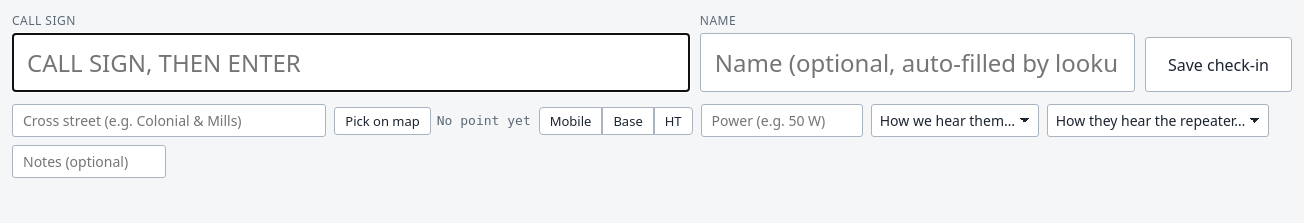
it: CheckinEntryForm in a range check › refuses an incomplete check-in, naming what's missing and keeping what was typed (RANGE-011)
Type "KD4ABC" into the field labelled "Call sign" at {"x": 351, "y": 62}, box [12,33,690,92]
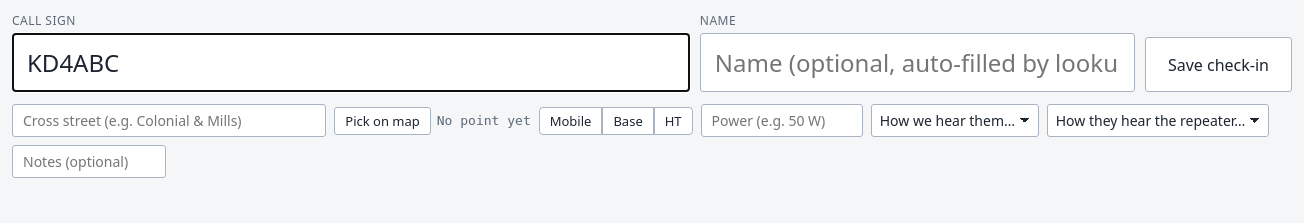
Type "Colonial & Mills" into the field labelled "Cross street" at {"x": 169, "y": 120}, box [12,104,326,137]
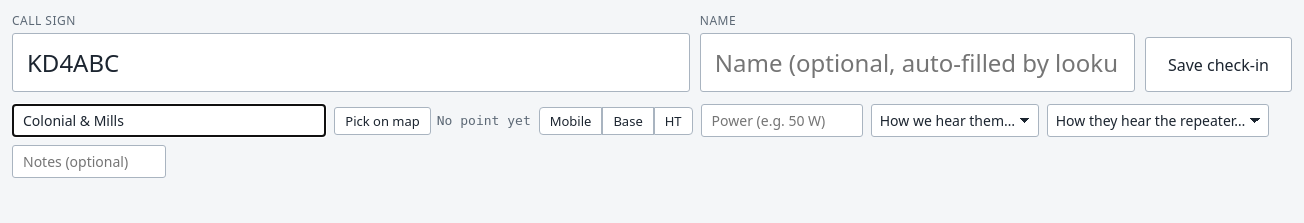
Click the button "Save check-in" at {"x": 1218, "y": 65}, box [1145,37,1292,92]
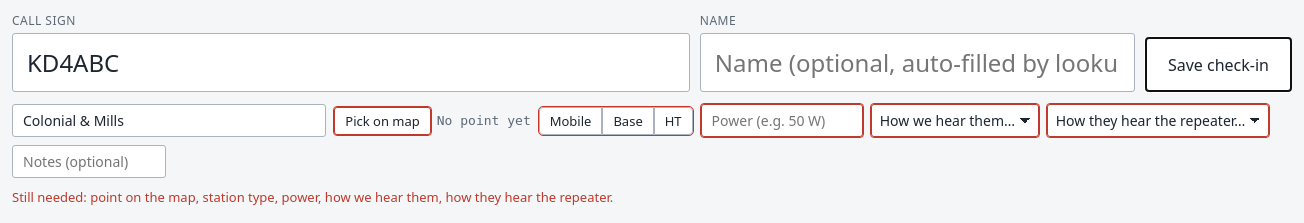
expect the message shows "Still needed: point on the map, station type, power, how we hear them, how they hear the repeater.": met, box [12,188,613,206]
